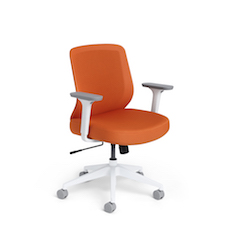chair: (37, 34, 192, 216)
